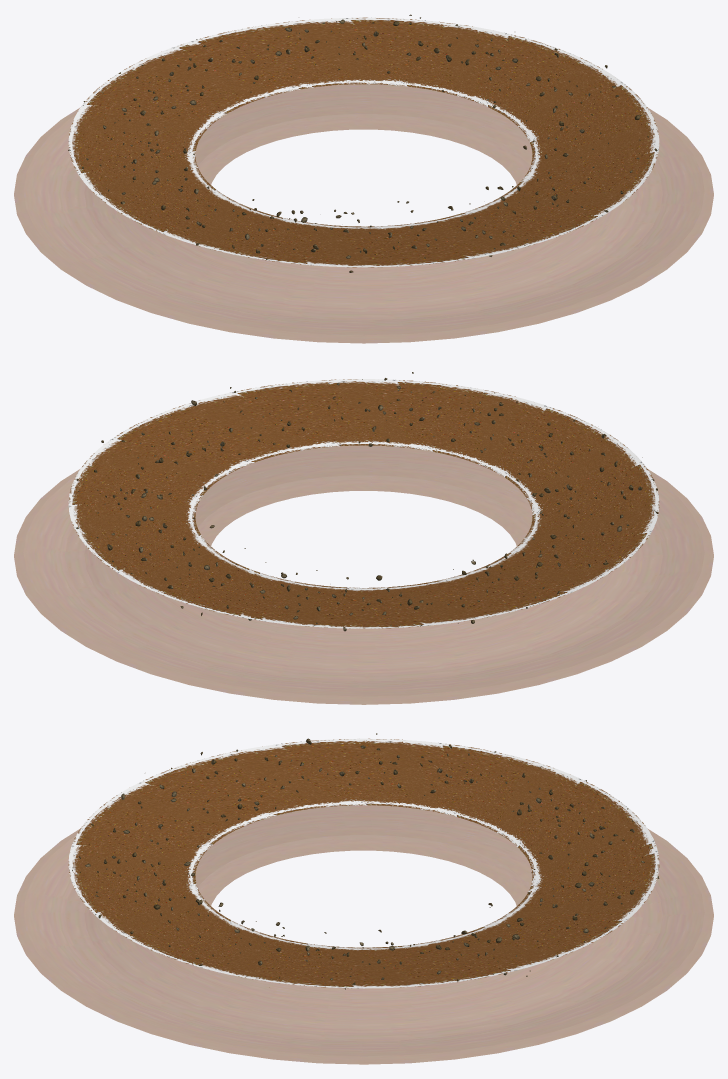
File: AsteroidRing.fbx
3 views of the same model, one above another, from view 1: azimuth 30°, elevation 25°; view 2: azimuth 150°, elevation 25°; view 3: azimuth 270°, elevation 25° (orthographic).
Parts seen in each view (by area): view 1: SmallRockring, Ring of Dust, AsteroidRing; view 2: SmallRockring, Ring of Dust, AsteroidRing; view 3: SmallRockring, Ring of Dust, AsteroidRing.
Part boxes in pixels (box(x1,y1,x2,y2)): SmallRockring: box(68, 17, 659, 267); Ring of Dust: box(14, 84, 713, 343); AsteroidRing: box(68, 14, 656, 272); SmallRockring: box(68, 379, 659, 628); Ring of Dust: box(14, 445, 713, 704); AsteroidRing: box(72, 372, 658, 631); SmallRockring: box(68, 738, 659, 988); Ring of Dust: box(14, 805, 713, 1064); AsteroidRing: box(72, 733, 659, 989).
Size of the model in its own units: 19053 by 2217 by 19053.
